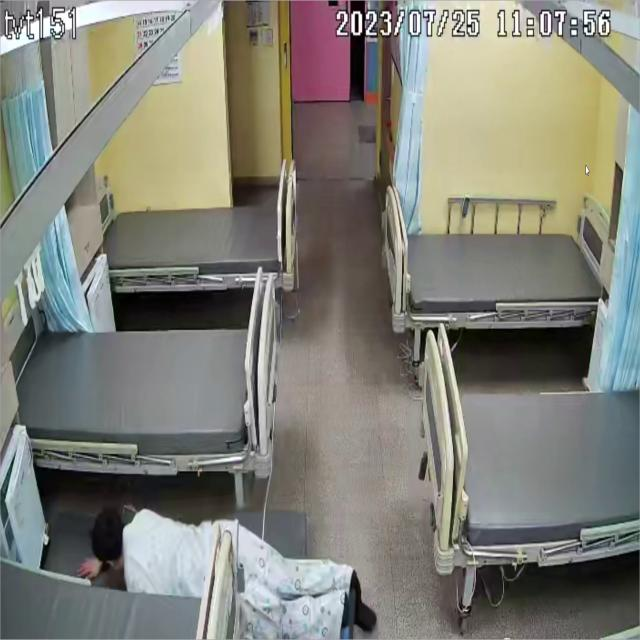bed: (420, 324, 640, 569), (14, 318, 278, 470), (382, 213, 616, 332), (105, 192, 294, 290)
fall: (79, 505, 368, 640)
patient: (76, 505, 366, 640)
